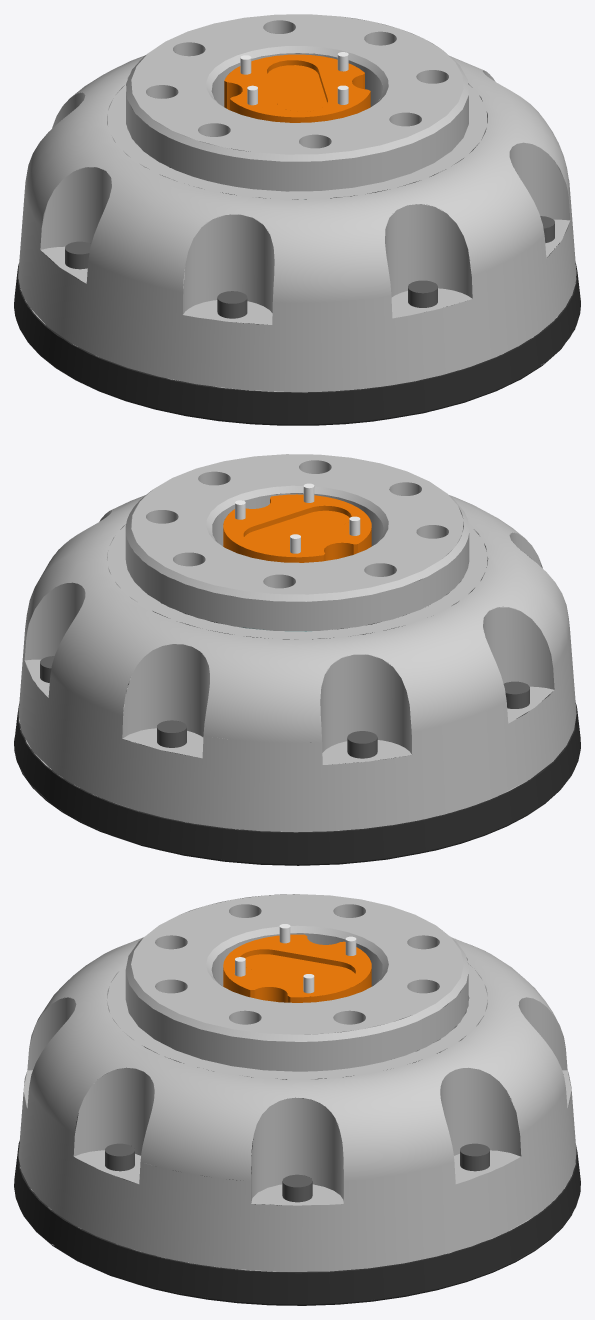
The picture shows the model from 3 angles, top to bottom: view 1: azimuth 30°, elevation 25°; view 2: azimuth 150°, elevation 25°; view 3: azimuth 270°, elevation 25°; orthographic projection.
Visible parts, largest first — view 1: DirectConnectNode_18-DC_Shell (×6); view 2: DirectConnectNode_18-DC_Shell (×6); view 3: DirectConnectNode_18-DC_Shell (×6).
Part boxes in pixels (<box>): DirectConnectNode_18-DC_Shell (×6): <box>14,14,580,425</box>; DirectConnectNode_18-DC_Shell (×6): <box>14,454,580,865</box>; DirectConnectNode_18-DC_Shell (×6): <box>14,894,580,1305</box>.
Size of the model in its own units: 104 by 104 by 57.7.
